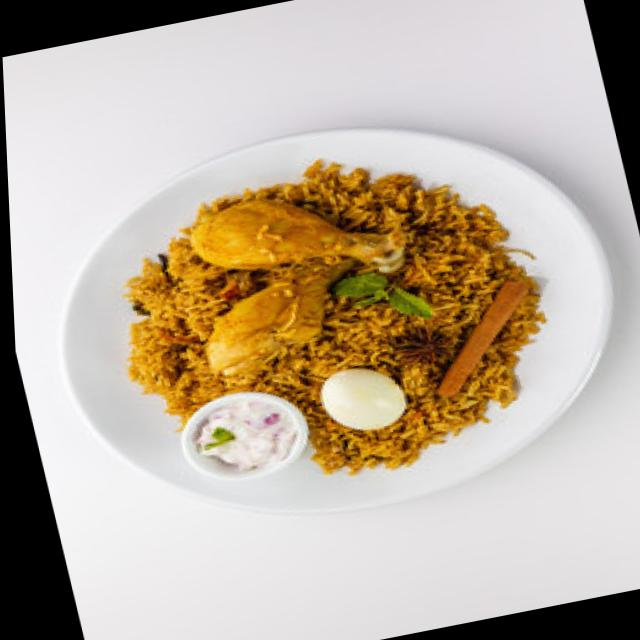BIRIYANI: (127, 161, 544, 476)
CURD: (180, 392, 306, 482)
